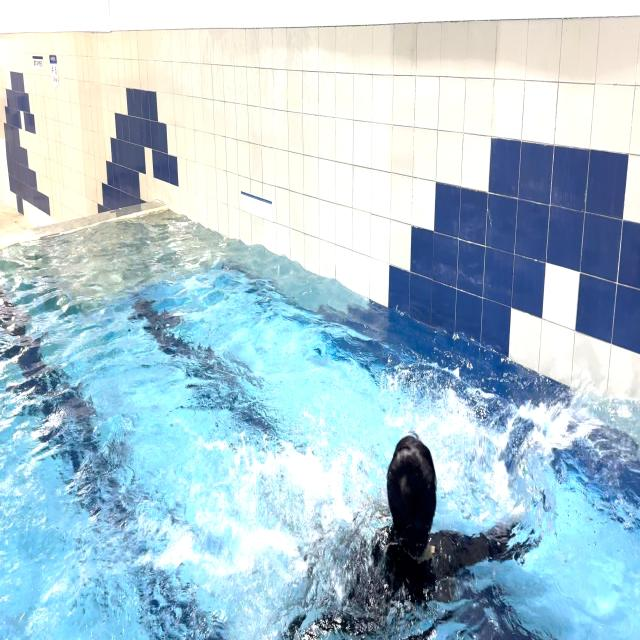Swimming: (268, 381, 556, 617)
